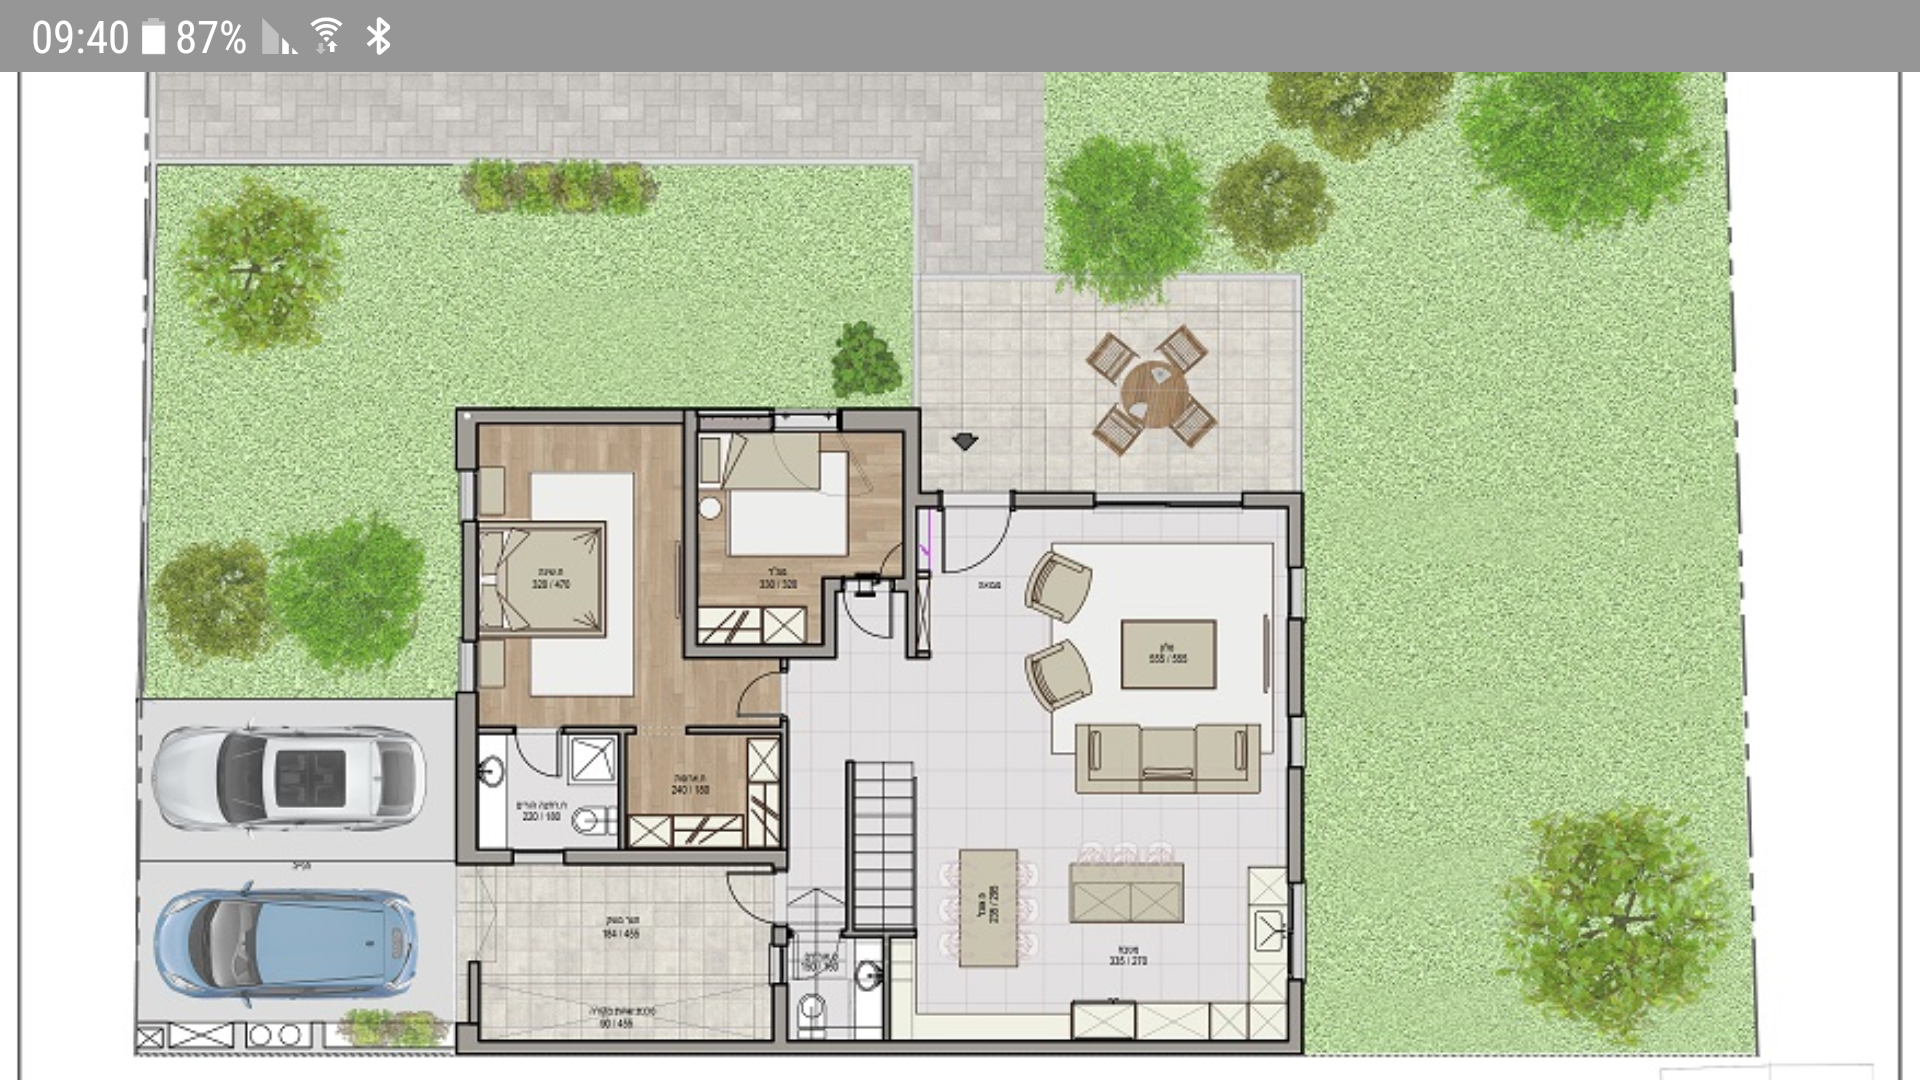door: (931, 516, 1018, 583), (839, 595, 897, 650), (717, 870, 769, 928), (727, 667, 777, 723), (510, 735, 564, 781)
room: (456, 409, 696, 735), (682, 407, 919, 659)
wall: (458, 407, 684, 425), (684, 409, 698, 659), (458, 694, 475, 862), (901, 409, 916, 579), (684, 645, 836, 658), (839, 411, 918, 429), (823, 578, 836, 659)
